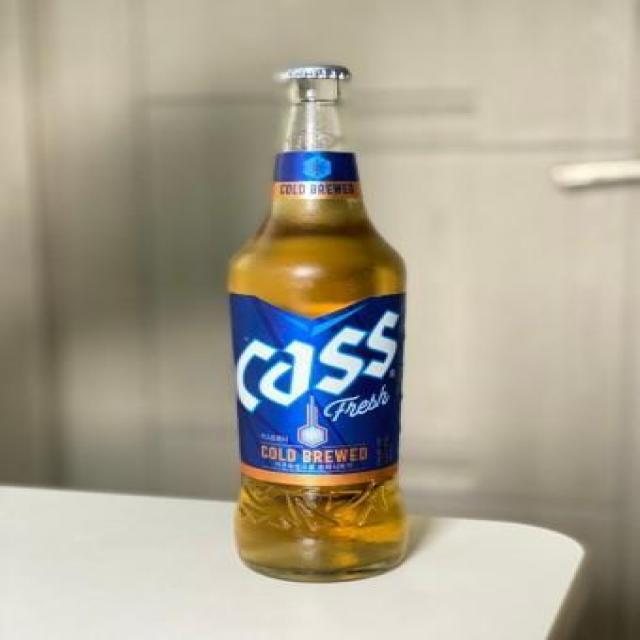beer-bottle: (230, 24, 412, 586)
